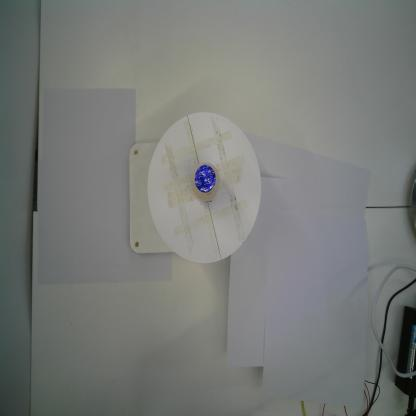Milk: (190, 162, 220, 204)
